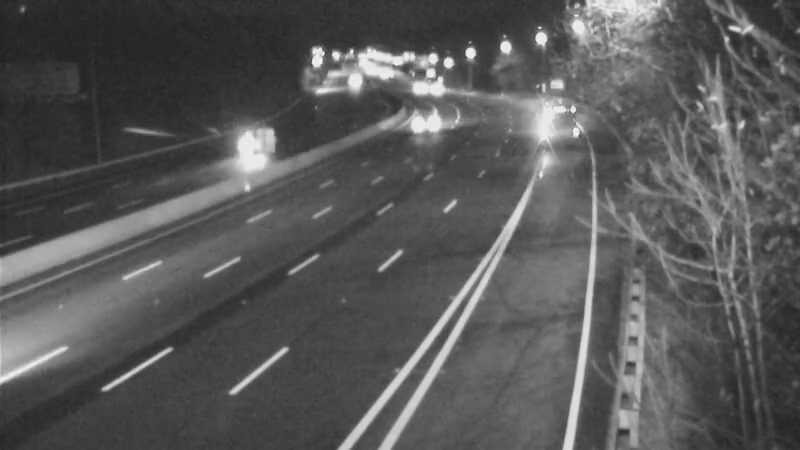vehicle: (388, 62, 438, 112), (408, 62, 458, 112), (530, 91, 580, 141), (397, 98, 447, 148), (220, 123, 270, 173)
